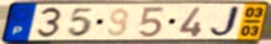3: (33, 6, 65, 40)
4: (176, 5, 204, 38)
5: (137, 5, 168, 39), (66, 7, 97, 38)
9: (106, 6, 133, 38)
J: (207, 4, 243, 39)
